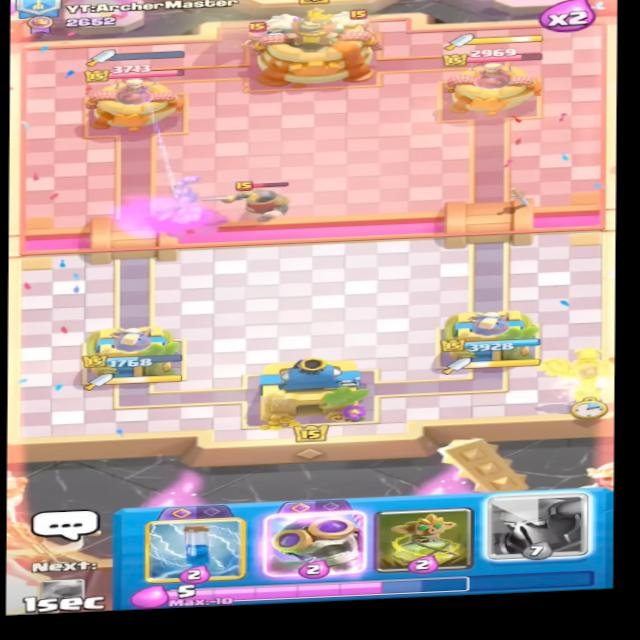archer: (236, 21, 272, 51)
knight: (223, 174, 308, 228)
